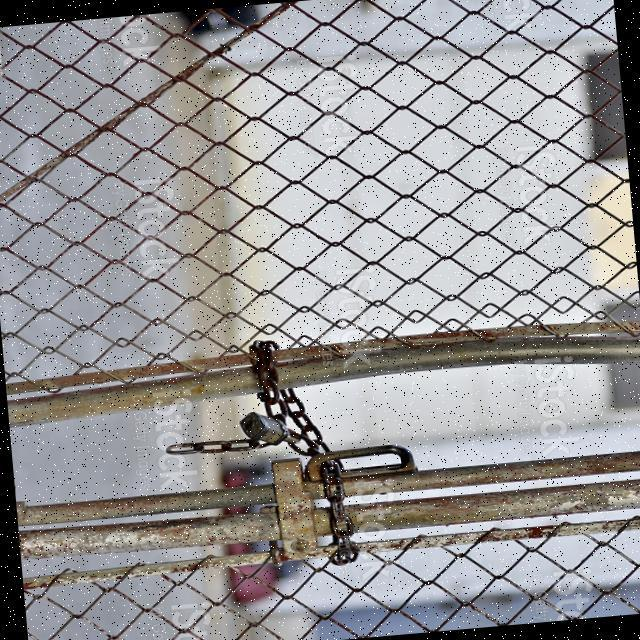fence line: (3, 305, 639, 558), (3, 307, 639, 556)
